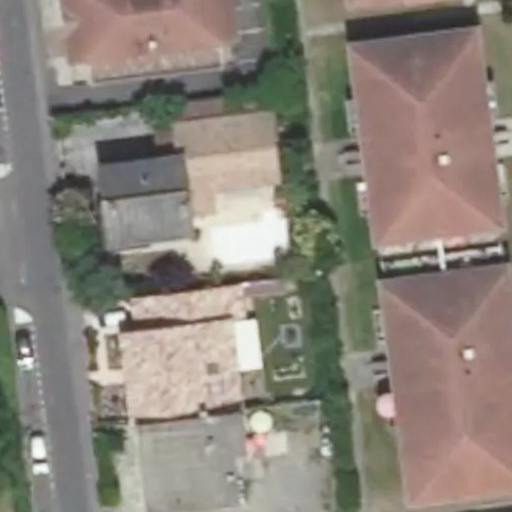pool: (216, 229, 295, 254)
